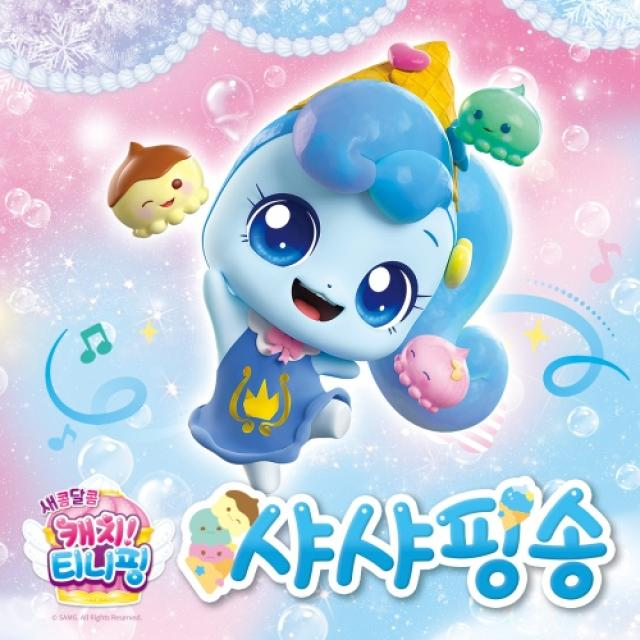Shashaping: (188, 38, 510, 494)
